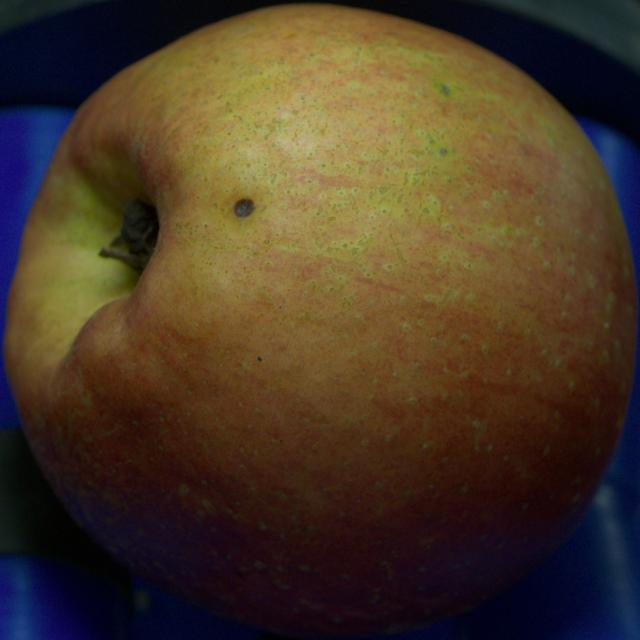apple: (4, 4, 637, 636)
pest: (234, 199, 254, 217)
